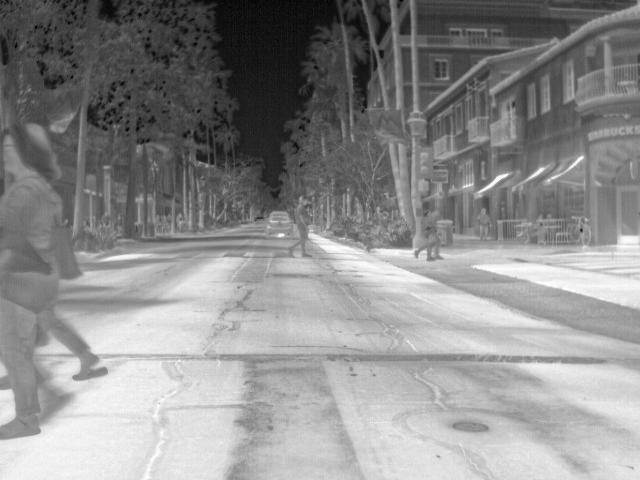car: (264, 210, 293, 236), (253, 215, 265, 226)
person: (0, 124, 68, 438), (287, 193, 313, 259), (414, 207, 443, 262), (421, 208, 440, 260), (476, 206, 491, 242), (158, 213, 171, 234), (113, 213, 125, 235), (174, 212, 186, 231)
